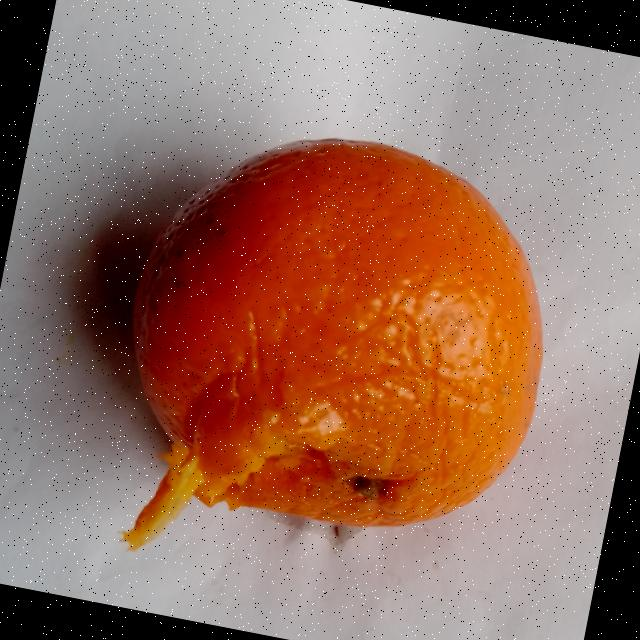Rotten: (74, 97, 581, 625)
